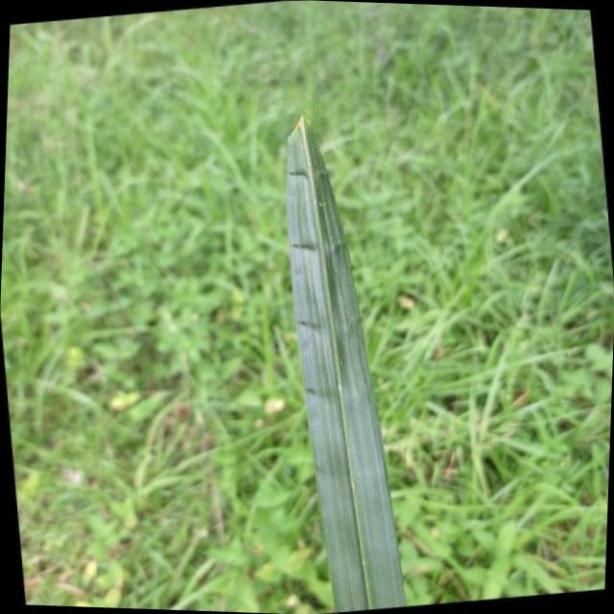Boron: (279, 108, 406, 614)
